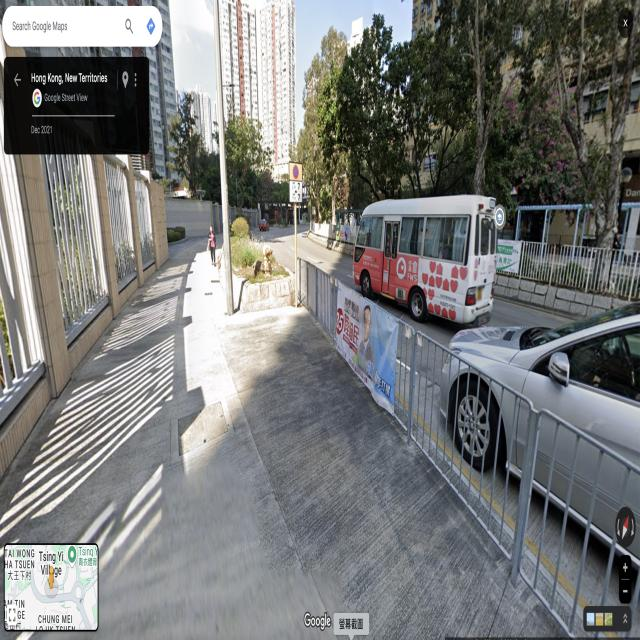Order-Sign: (290, 162, 302, 203)
